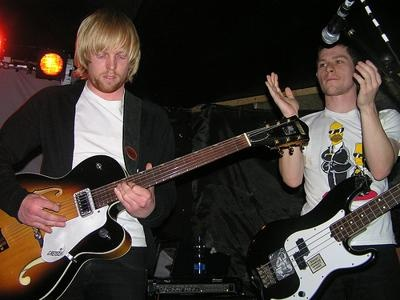person without safety: (25, 4, 182, 179), (279, 6, 400, 194)
